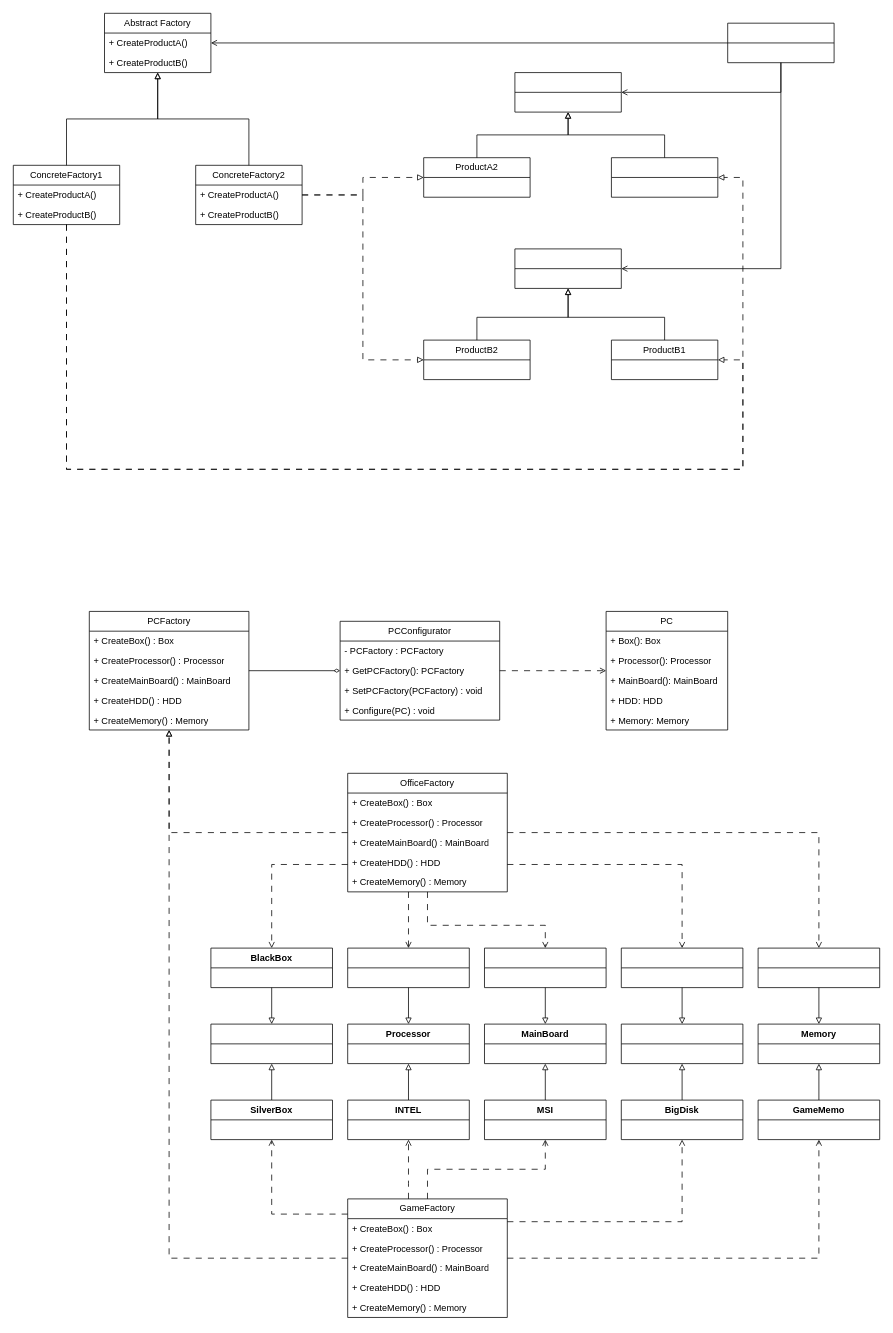
The diagram is 893 pixels wide and 1333 high, and some of its shapes have lost their labels. Here are the shapes that lost their labels. From the top down, the centre of each, then its label:
the point at 780,42: Client
the point at 567,92: AbstractProductA
the point at 664,177: ProductA1
the point at 567,268: AbstractProductB
the point at 408,967: AMD
the point at 545,967: ASUS
the point at 682,967: SmallDisk
the point at 818,967: OfficeMemo
the point at 271,1043: Box
the point at 682,1043: HDD
